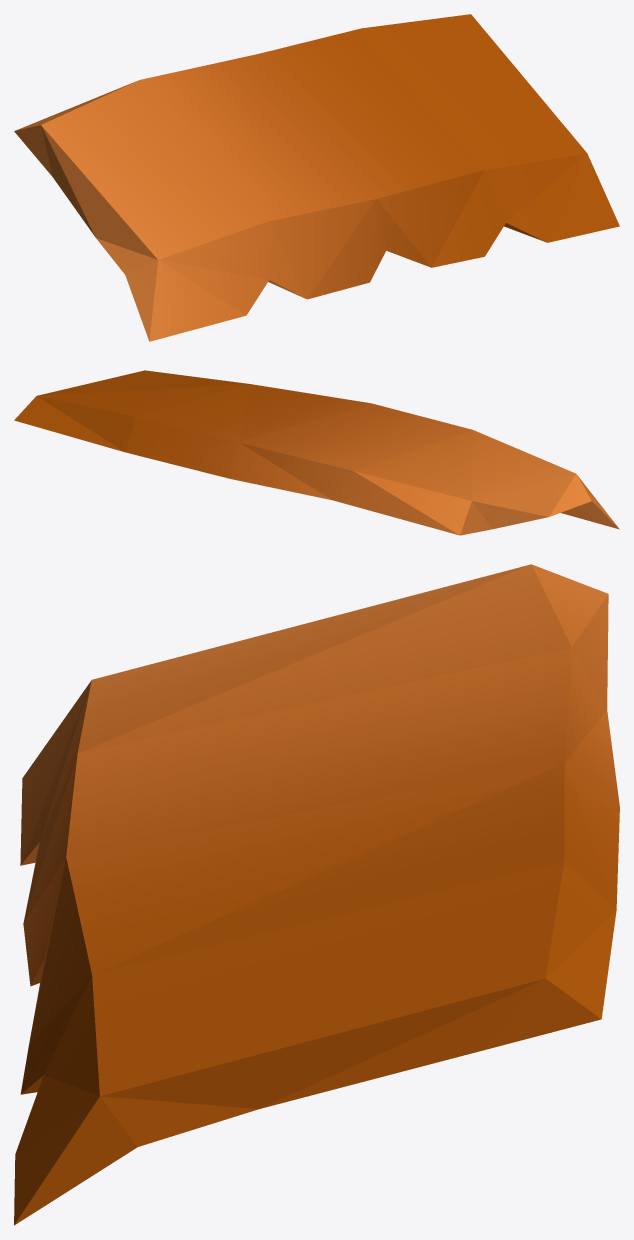
Rendered from MarketStall_Roof_Orange.fbx.
3 views of the same model, one above another, from view 1: azimuth 30°, elevation 25°; view 2: azimuth 150°, elevation 25°; view 3: azimuth 270°, elevation 25° (orthographic). The views are drawn at different scales.
Parts seen in each view (by area): view 1: MarketStall_Roof_Orange; view 2: MarketStall_Roof_Orange; view 3: MarketStall_Roof_Orange.
Part boxes in pixels (x1=…): MarketStall_Roof_Orange: x1=14, y1=14, x2=619, y2=341; MarketStall_Roof_Orange: x1=14, y1=370, x2=619, y2=535; MarketStall_Roof_Orange: x1=14, y1=564, x2=619, y2=1225.
Size of the model in its own units: 3.04 by 0.8 by 1.72.
Materials: 1 (1 with a texture image).
